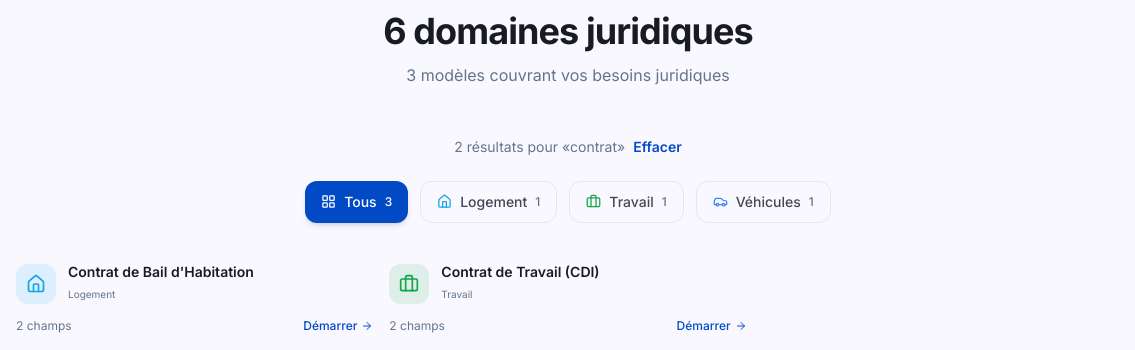
TemplateExplorer › shows a result count and clears the query
Expected: the heading "Contrat de Bail d'Habitation" is shown, [68,263,254,280]
Expected: the heading "Contrat de Travail (CDI)" is shown, [441,263,600,280]
Click the button "Effacer". click: (658, 147)
box: [633,137,682,157]
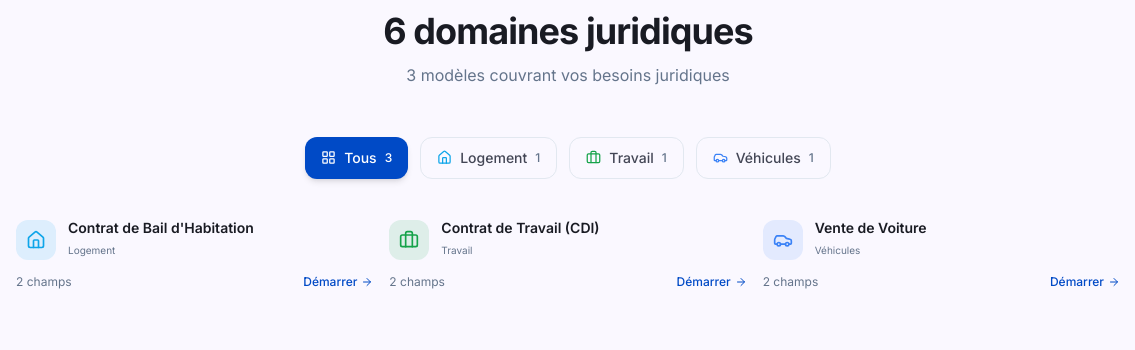
Expected: the heading "Vente de Voiture" is shown, [815,219,927,236]
